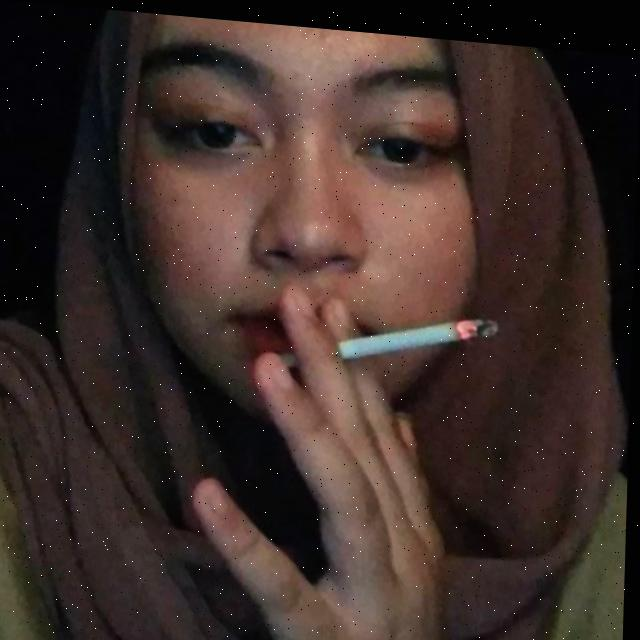cigarette: (339, 300, 501, 365)
